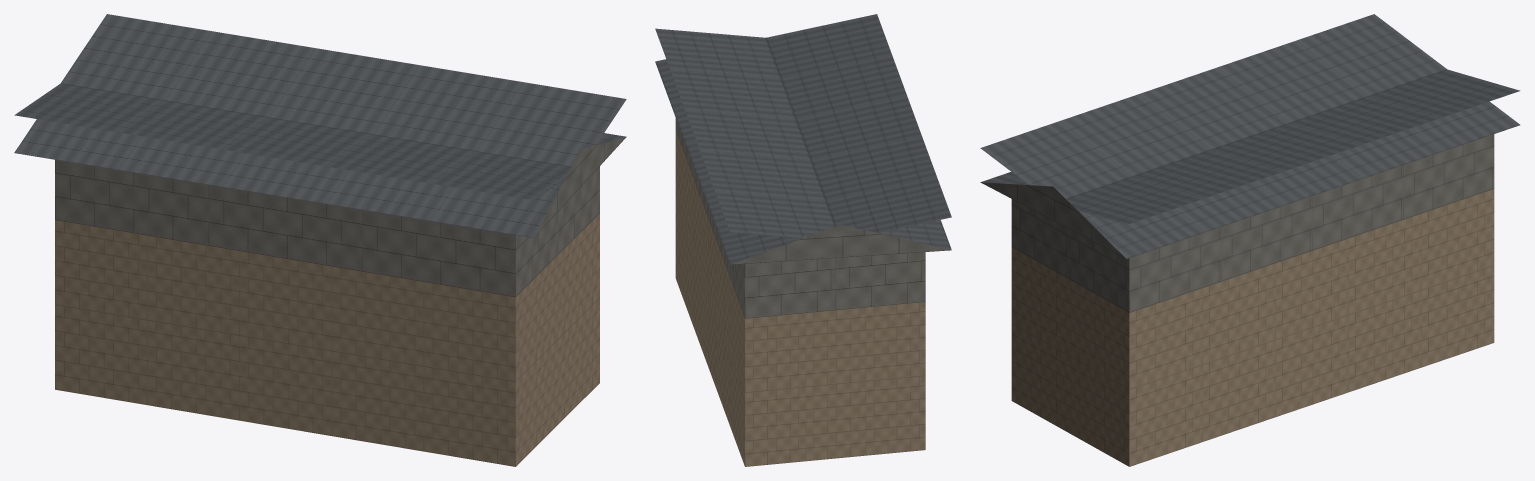
Rendered from bld_c42_34_262.gltf.
3 views of the same model, side by side, from view 1: azimuth 30°, elevation 25°; view 2: azimuth 150°, elevation 25°; view 3: azimuth 270°, elevation 25° (orthographic). The views are drawn at different scales.
Parts seen in each view (by area): view 1: bld_c42_34_262; view 2: bld_c42_34_262; view 3: bld_c42_34_262.
Part boxes in pixels (<box>): bld_c42_34_262: <box>14,14,626,466</box>; bld_c42_34_262: <box>655,14,951,466</box>; bld_c42_34_262: <box>980,14,1520,466</box>.
Size of the model in its own units: 13.22 by 7.4 by 14.32.
Materials: 4 (4 with a texture image).
